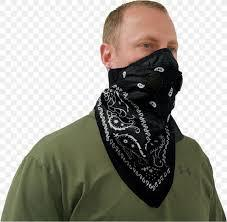scarf-kerchief: (89, 46, 184, 206)
